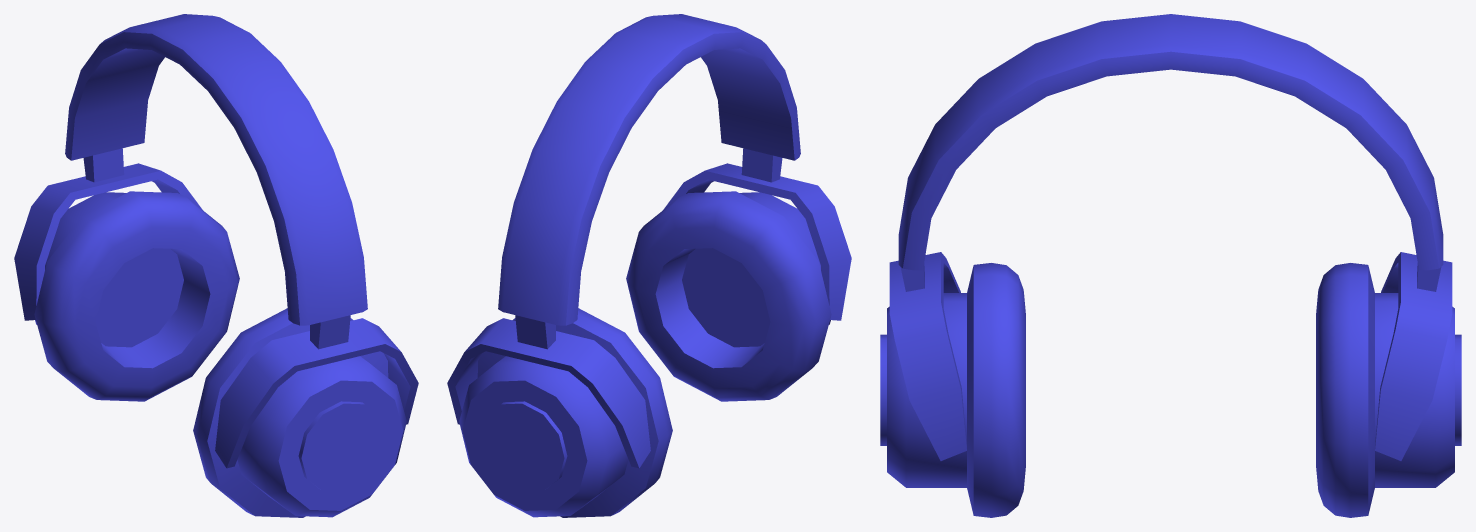
Rendered from Headphones.fbx.
3 views of the same model, side by side, from view 1: azimuth 30°, elevation 25°; view 2: azimuth 150°, elevation 25°; view 3: azimuth 270°, elevation 25° (orthographic). The views are drawn at different scales.
Visible parts, largest first — view 1: HeadPhones; view 2: HeadPhones; view 3: HeadPhones.
Part boxes in pixels (x1,y1,x2,y2): HeadPhones: (14, 14, 418, 517); HeadPhones: (447, 14, 851, 517); HeadPhones: (880, 14, 1461, 517).
Bounding box in the file's own units: 6.24 × 12.82 × 14.16.
